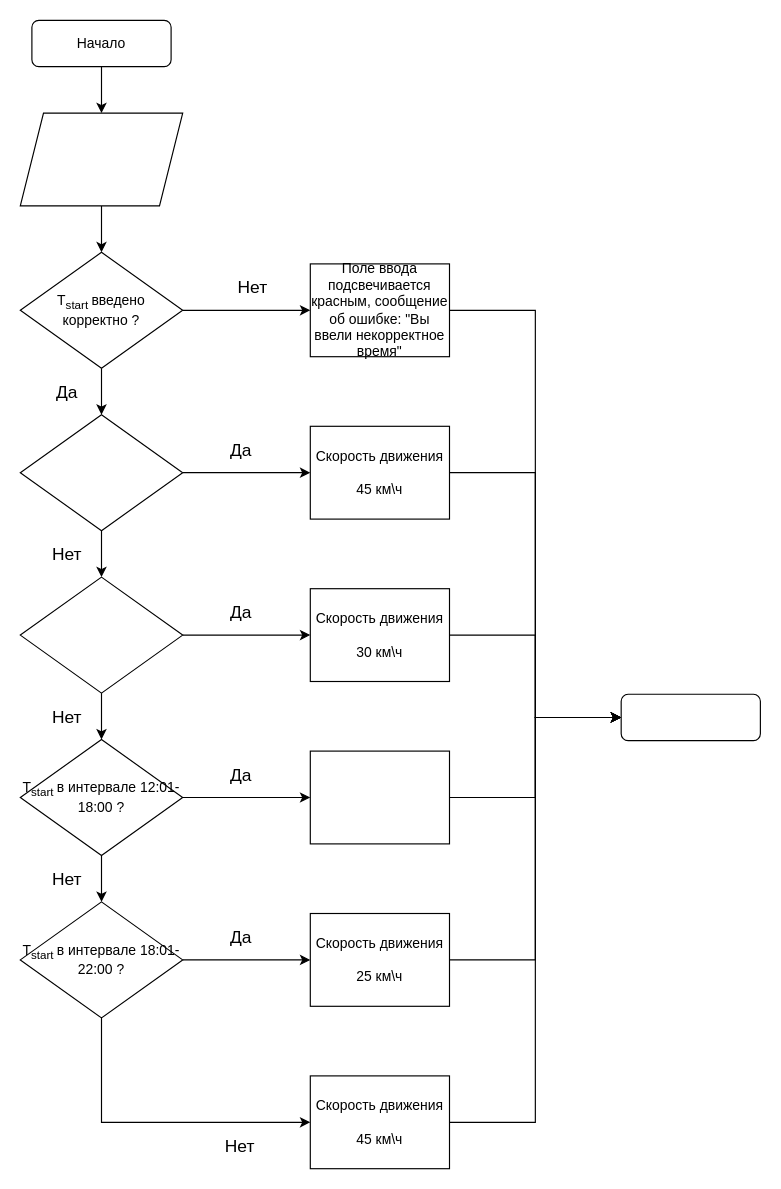
The diagram is 781 pixels wide and 1189 high, and some of its shapes have lost their labels. The shapes that lost their labels are listed below. From the top down, each one's centre as x and y in pixels, then its label:
At (101,159): "Ввод времени начала поездки Т start".
At (101,472): "Т start в интервале 00:01-08:00 ?".
At (101,634): "Т start в интервале 08:01-12:00 ?".
At (690,717): "Конец".
At (379,797): "Скорость движения 40 км\ч".
